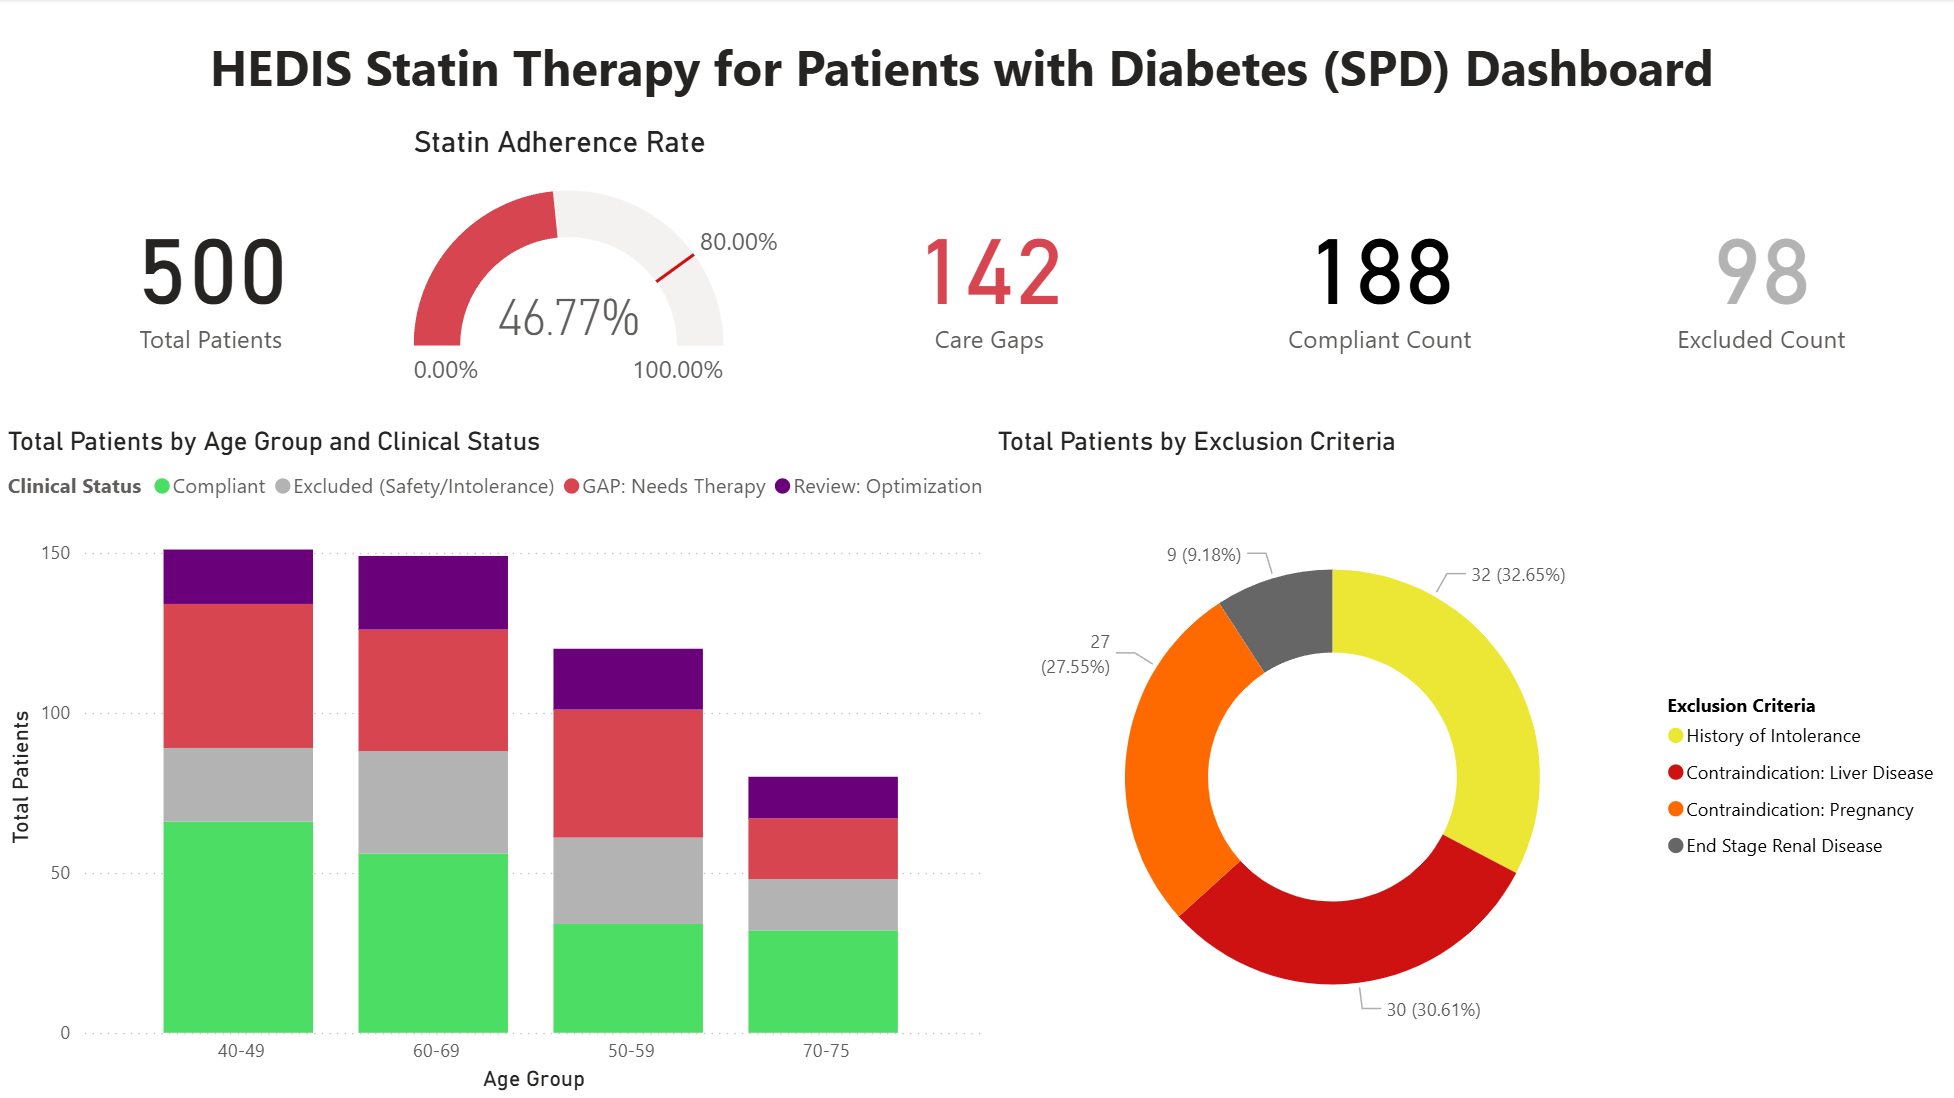

Layout of this report page (visuals, bound fields, positions):
{"tool":"powerbi","page":{"name":"Page 1","canvas":[1280,720],"ordinal":0},"visuals":[{"type":"card","fields":{"Values":["HEDIS_SPD_Mock_Data.Total Patients"]},"box":[9.5,81.7,256.4,197.5],"z":0},{"type":"card","fields":{"Values":["HEDIS_SPD_Mock_Data.Excluded Count"]},"box":[1025.5,81.7,254.5,197.5],"z":2000},{"type":"card","fields":{"Values":["HEDIS_SPD_Mock_Data.Care Gaps"]},"box":[520.4,81.7,254.5,197.5],"z":3000},{"type":"columnChart","fields":{"Category":["HEDIS_SPD_Mock_Data.Age Group"],"Y":["HEDIS_SPD_Mock_Data.Total Patients"],"Series":["HEDIS_SPD_Mock_Data.clinical_status"]},"box":[0,279.4,647.9,440.4],"z":4000},{"type":"card","fields":{"Values":["HEDIS_SPD_Mock_Data.Compliant Count"]},"box":[774.8,81.7,256.4,197.5],"z":4500},{"type":"donutChart","fields":{"Category":["HEDIS_SPD_Mock_Data.exclusion_details"],"Y":["HEDIS_SPD_Mock_Data.Total Patients"]},"box":[647.9,279.4,632.1,440.4],"z":6500},{"type":"gauge","title":"Statin Adherence Rate","fields":{"Y":["HEDIS_SPD_Mock_Data.Statin Adherence Rate"],"TargetValue":["HEDIS_SPD_Mock_Data.Target Rate"]},"box":[265.9,81.7,254.5,197.5],"z":7500},{"type":"textbox","box":[132.2,17,1015.6,65.4],"z":8500}]}

Visuals, with their boxes in screenshot pixels (x1, y1, x2, y2), scaled from the page's 1280x720 canvas onto the 1954x1098 screenshot:
card - HEDIS_SPD_Mock_Data.Total Patients: (left=15, top=125, right=406, bottom=426)
card - HEDIS_SPD_Mock_Data.Excluded Count: (left=1565, top=125, right=1953, bottom=426)
card - HEDIS_SPD_Mock_Data.Care Gaps: (left=794, top=125, right=1183, bottom=426)
columnChart - HEDIS_SPD_Mock_Data.Age Group x HEDIS_SPD_Mock_Data.Total Patients: (left=0, top=426, right=989, bottom=1097)
card - HEDIS_SPD_Mock_Data.Compliant Count: (left=1183, top=125, right=1574, bottom=426)
donutChart - HEDIS_SPD_Mock_Data.exclusion_details x HEDIS_SPD_Mock_Data.Total Patients: (left=989, top=426, right=1953, bottom=1097)
"Statin Adherence Rate" gauge: (left=406, top=125, right=794, bottom=426)
textbox: (left=202, top=26, right=1752, bottom=126)
